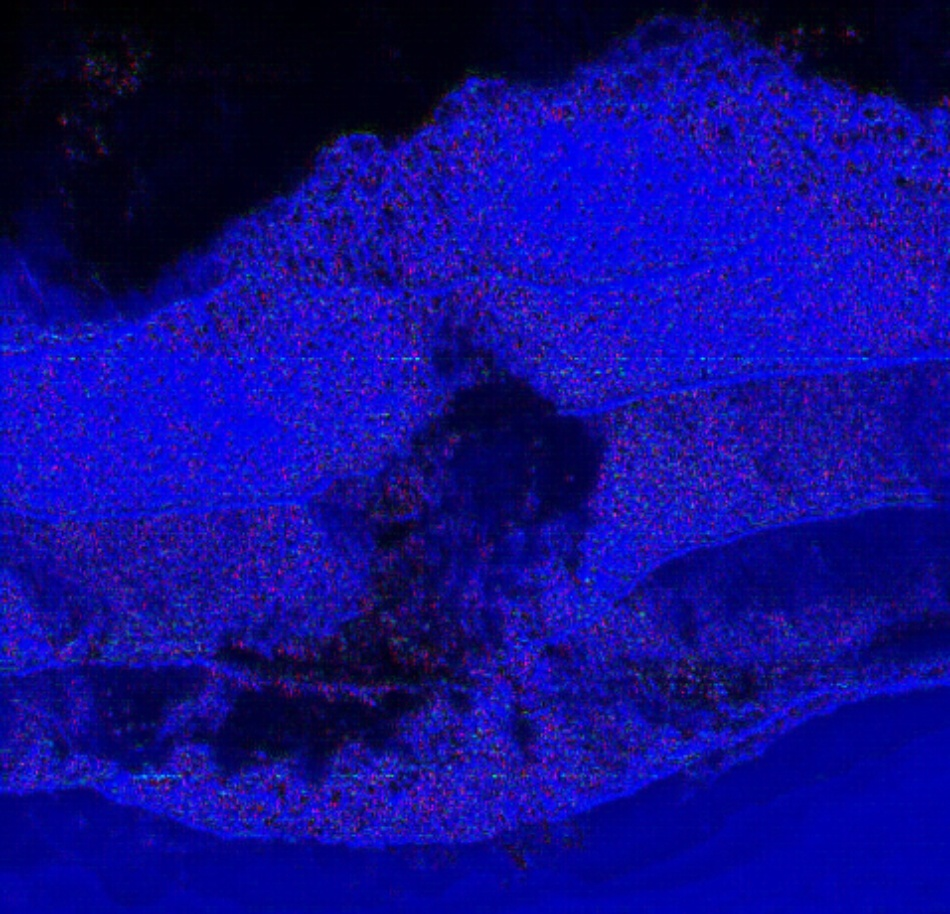rip_current: (229, 301, 631, 794)
